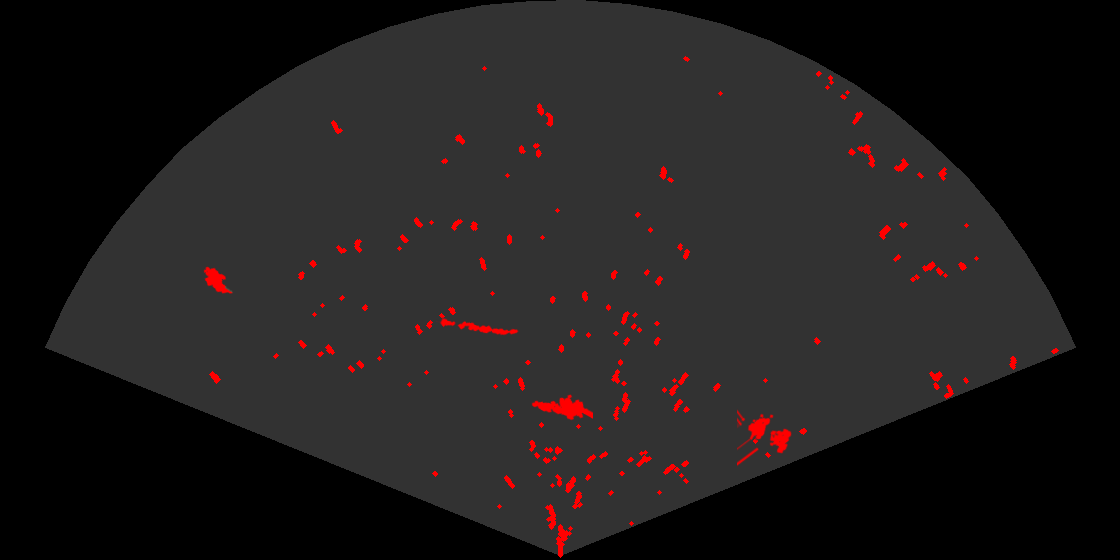AUV: (202, 265, 235, 295)
cage: (737, 408, 793, 468)
chain: (436, 317, 519, 337)
frogman: (530, 393, 593, 422)
